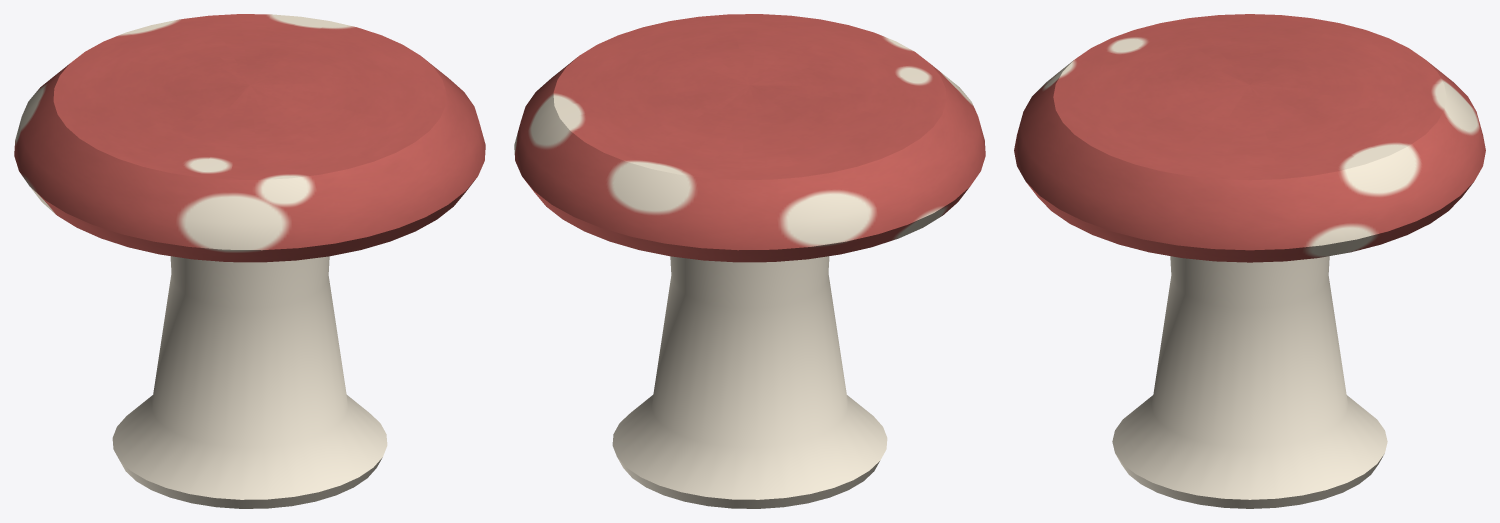
The model's file is mushroom_table.glb.
3 renders of one model, left to right at view 1: azimuth 30°, elevation 25°; view 2: azimuth 150°, elevation 25°; view 3: azimuth 270°, elevation 25°, orthographic.
Parts seen in each view (by area): view 1: model; view 2: model; view 3: model.
Boxes of the visible parts, x1=… form: model: x1=14, y1=14, x2=485, y2=508; model: x1=514, y1=14, x2=985, y2=508; model: x1=1014, y1=14, x2=1485, y2=508.
Size of the model in its own units: 0.72 by 0.62 by 0.72.
2 materials, 2 textured.
